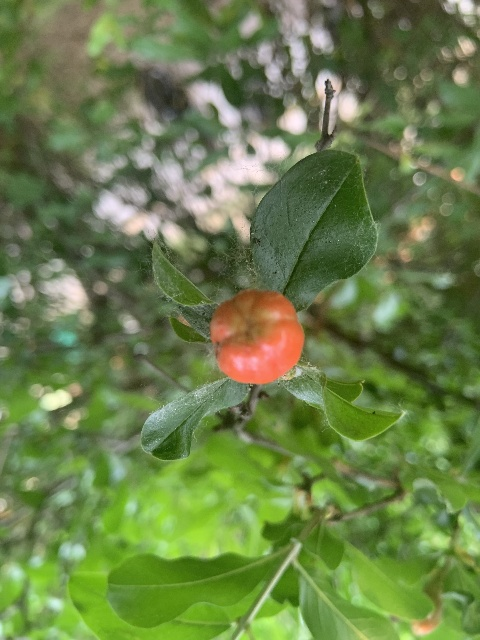bud: (210, 289, 303, 385)
